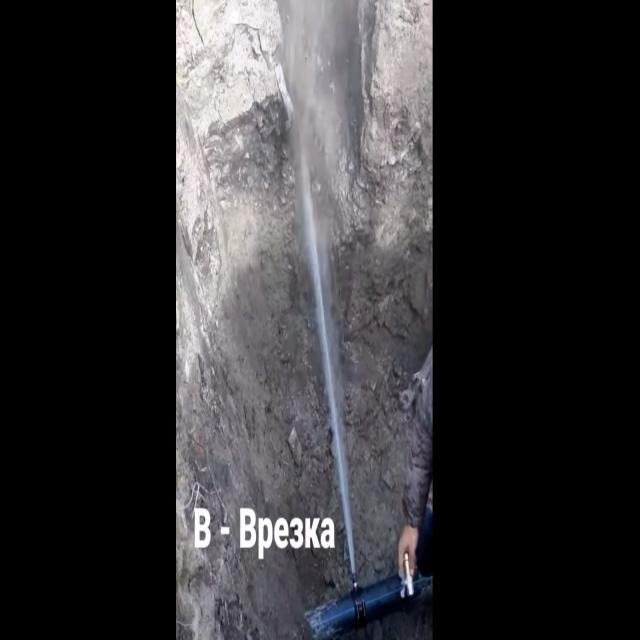leak: (299, 145, 356, 575)
